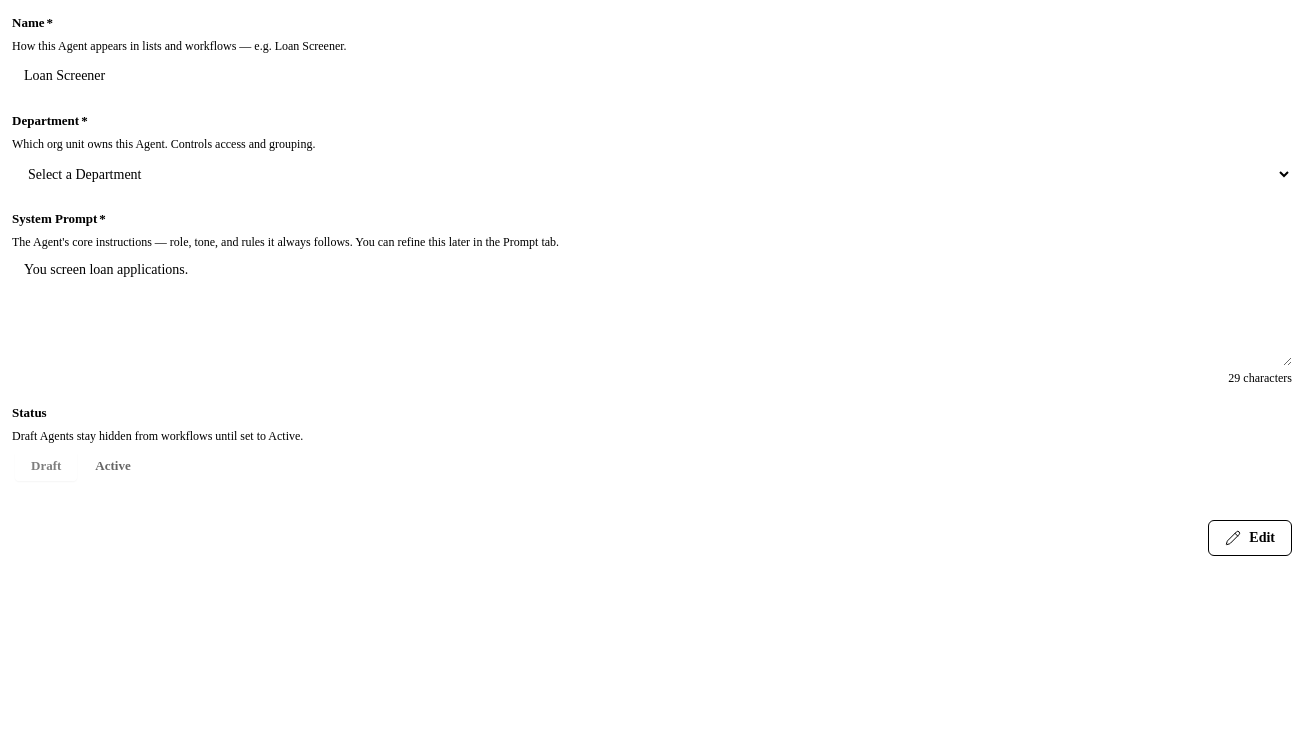
Scenario: IdentityTab › Save failure shows an inline error
Click the button with test id "vaic-tab-edit" at (1250, 538), box x1=1208 y1=520 x2=1292 y2=556
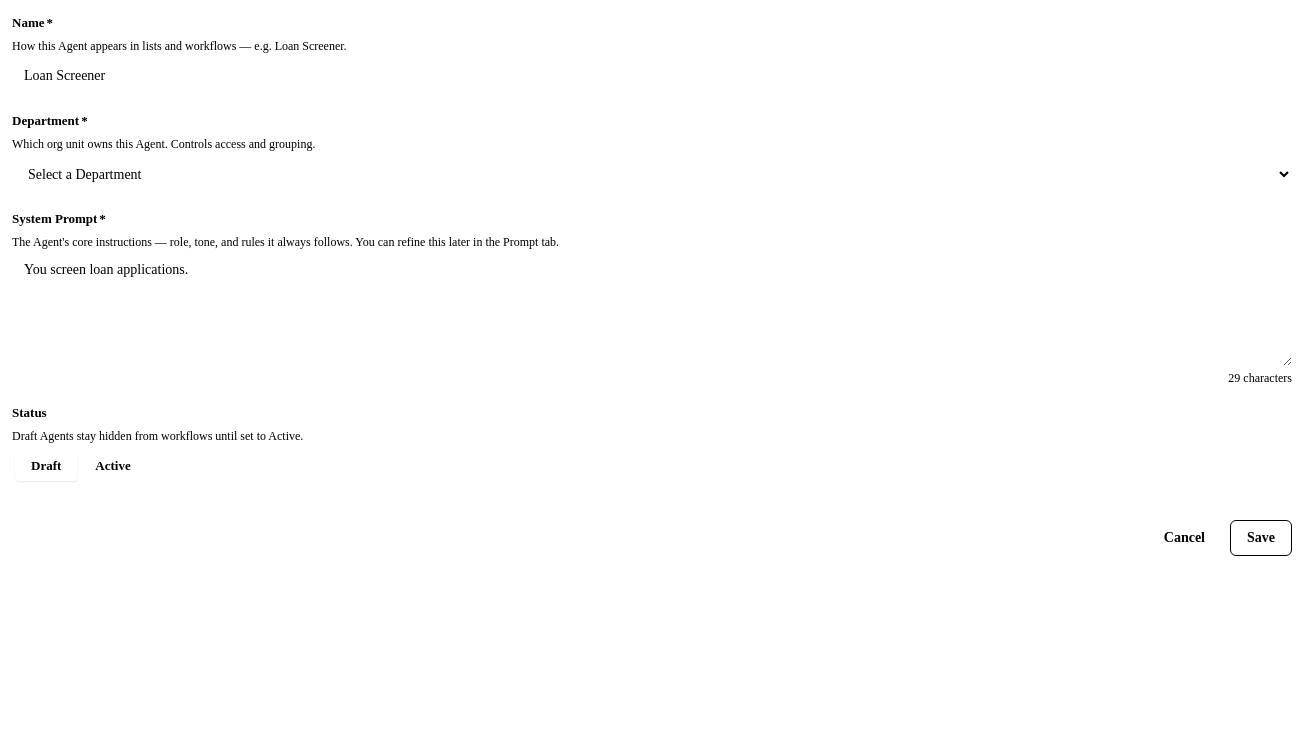
Replace the text in the field labelled "Name" with "Dup Name" at (652, 76), box x1=12 y1=58 x2=1292 y2=94
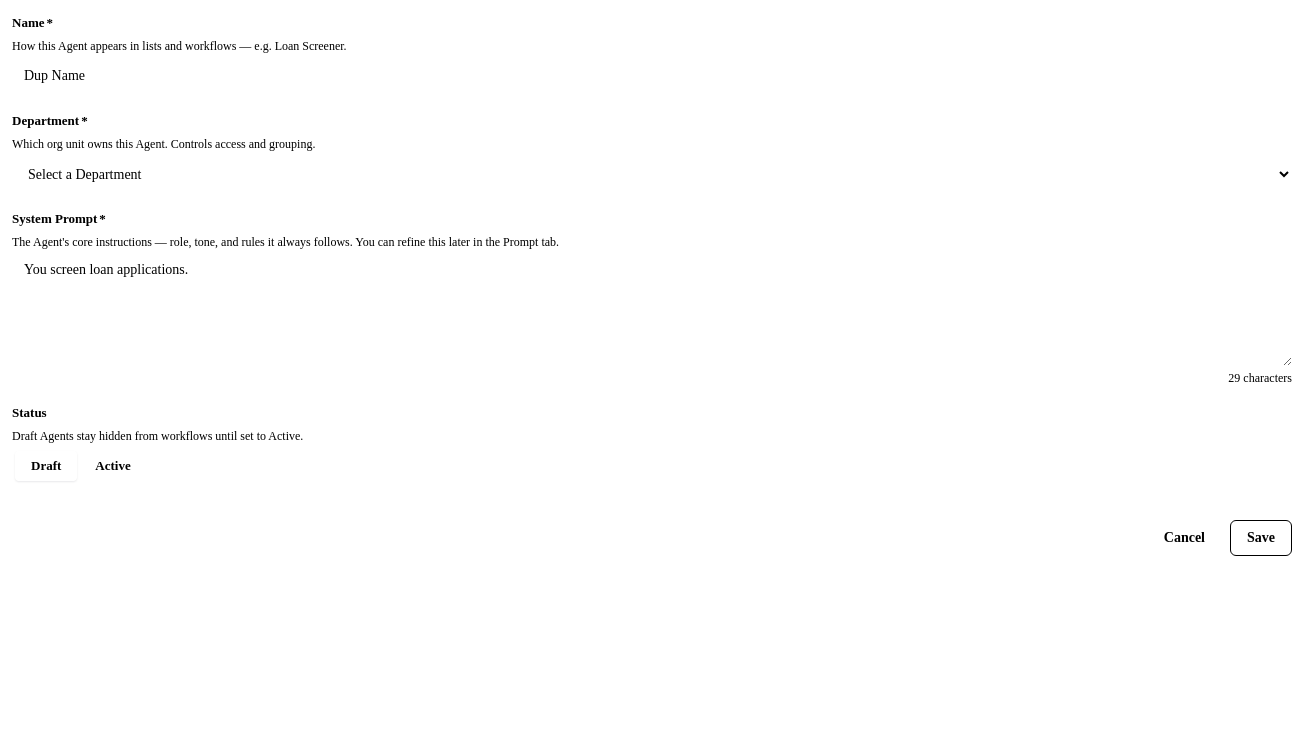
Click the button with test id "vaic-tab-save" at (1261, 538), box x1=1230 y1=520 x2=1292 y2=556
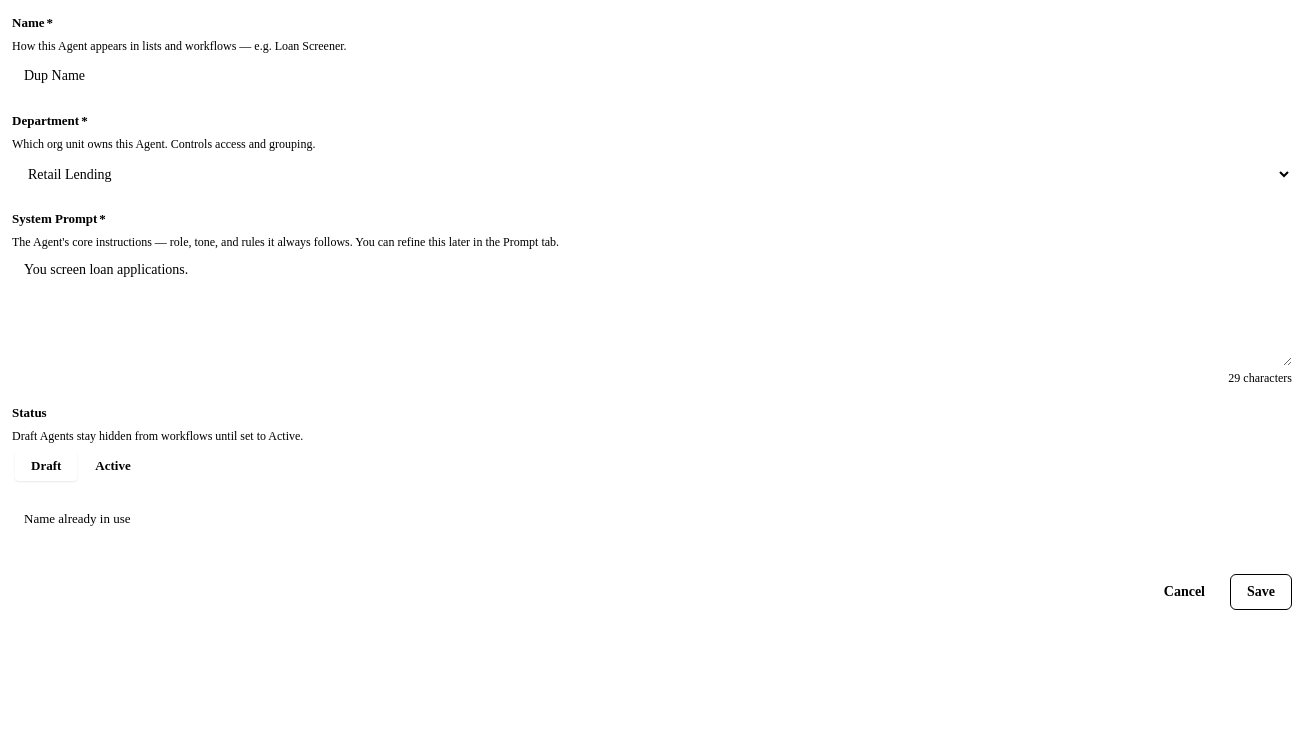
Result: the message with test id "vaic-identity-save-error" reads "Name already in use" at x1=24 y1=511 x2=130 y2=526
